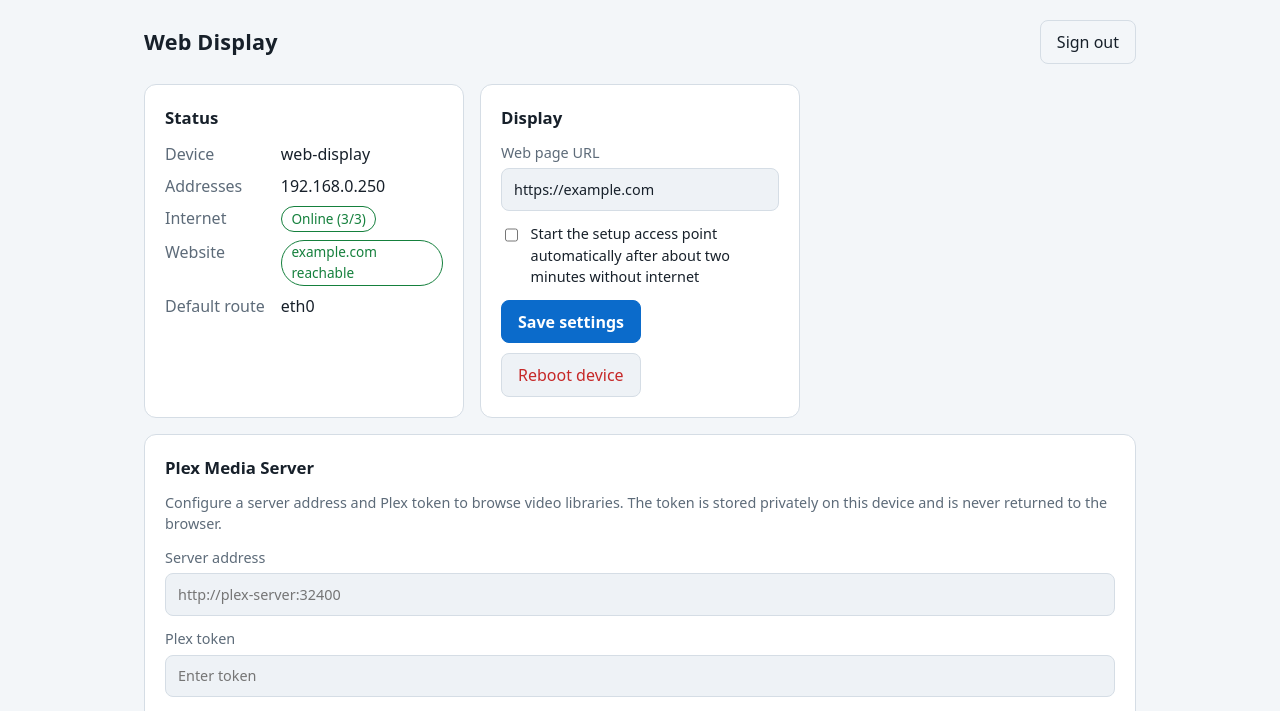
Scenario: dashboard loads settings and saves them with the CSRF token
The image size is (1280, 711).
Check: the field labelled "Web page URL" holds "https://example.com", box [501,168,779,211]
Check: the text "Online (3/3)" is shown, box [281,206,376,232]
Click the checkbox labelled "Start the setup access point automatically" at (512, 235), box [505,226,518,244]
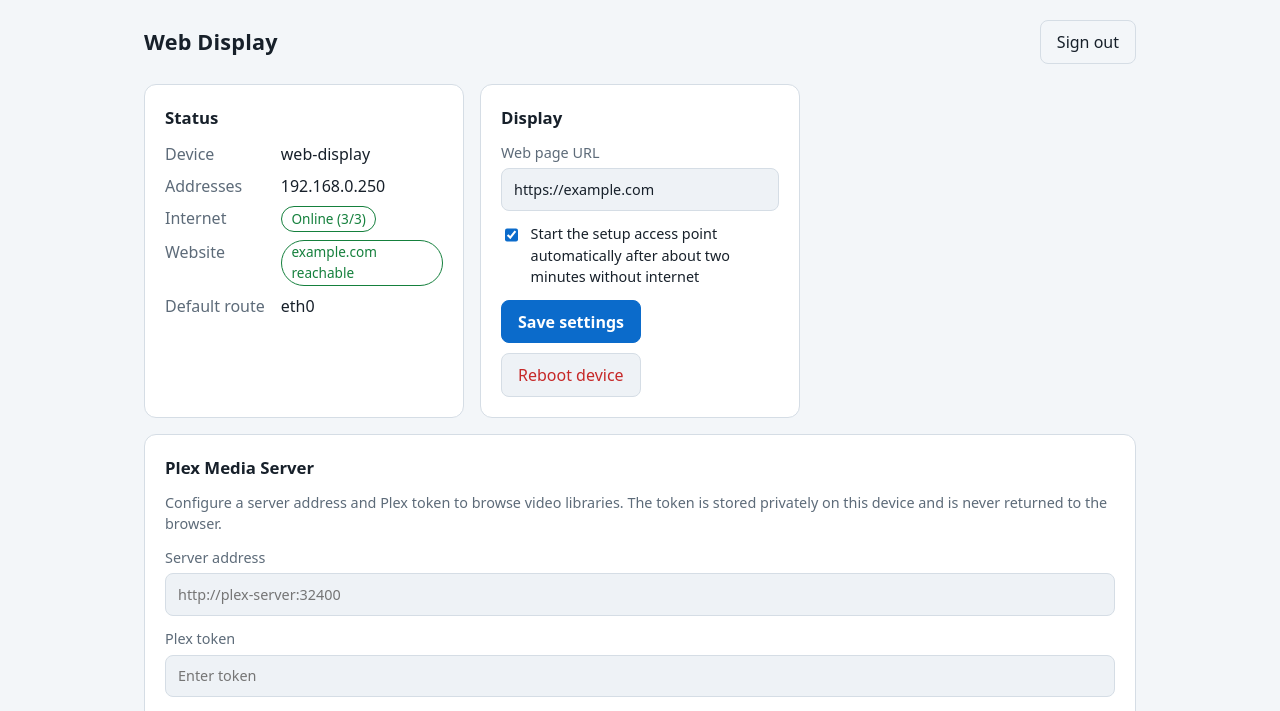
Click the button "Save settings" at (571, 322), box [501,300,641,343]
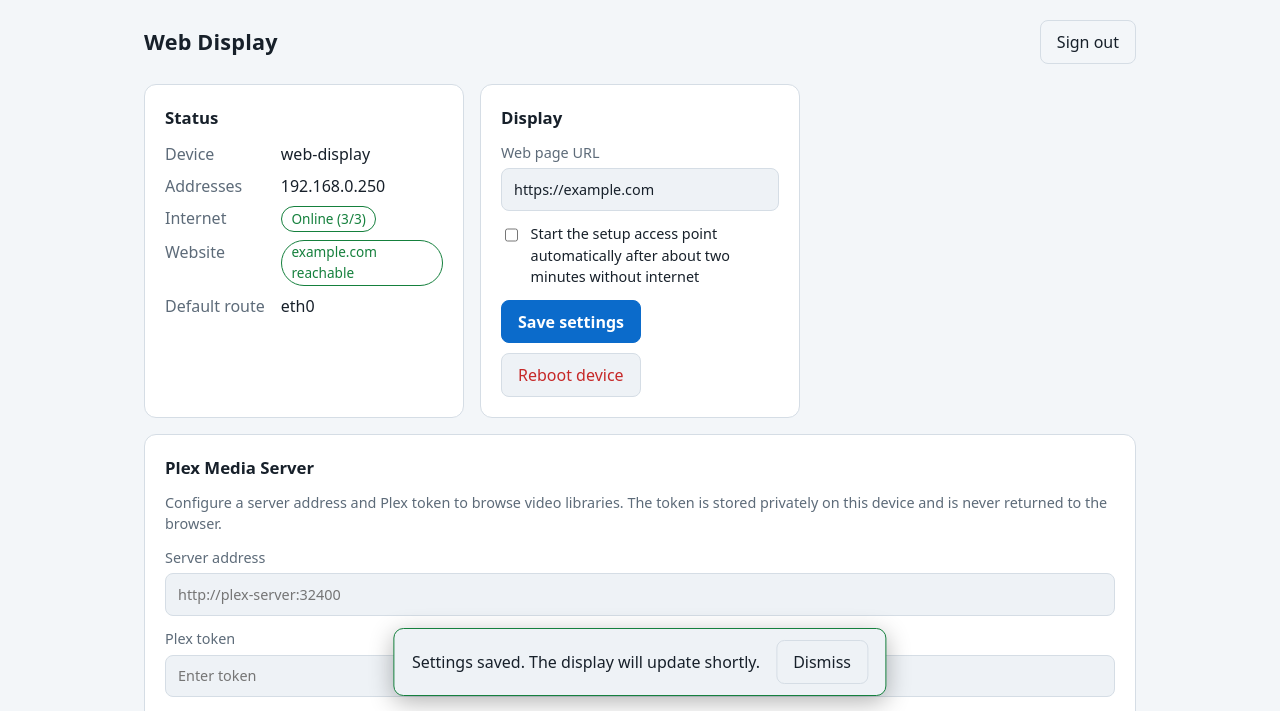
Check: the text "Settings saved. The display will update shortly. Dismiss" is shown, box [393,628,887,696]
